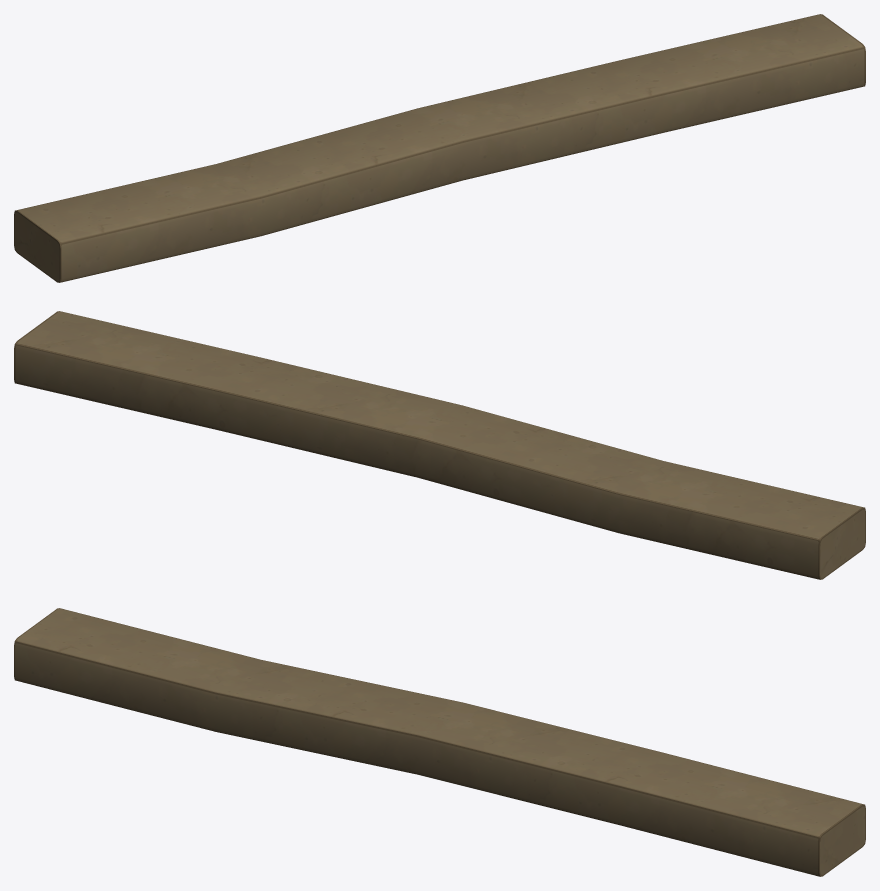
The model's file is SM_building_foundation_03.glb.
3 renders of one model, top to bottom at view 1: azimuth 30°, elevation 25°; view 2: azimuth 150°, elevation 25°; view 3: azimuth 330°, elevation 25°, orthographic.
Parts seen in each view (by area): view 1: SM_building_foundation_03; view 2: SM_building_foundation_03; view 3: SM_building_foundation_03.
Boxes of the visible parts, box(x1,y1,x2,y2) form: SM_building_foundation_03: box(14, 14, 865, 282); SM_building_foundation_03: box(14, 311, 865, 579); SM_building_foundation_03: box(14, 608, 865, 876).
Bounding box in the file's own units: 6 × 0.3463 × 0.6.
Materials: 1 (1 with a texture image).
